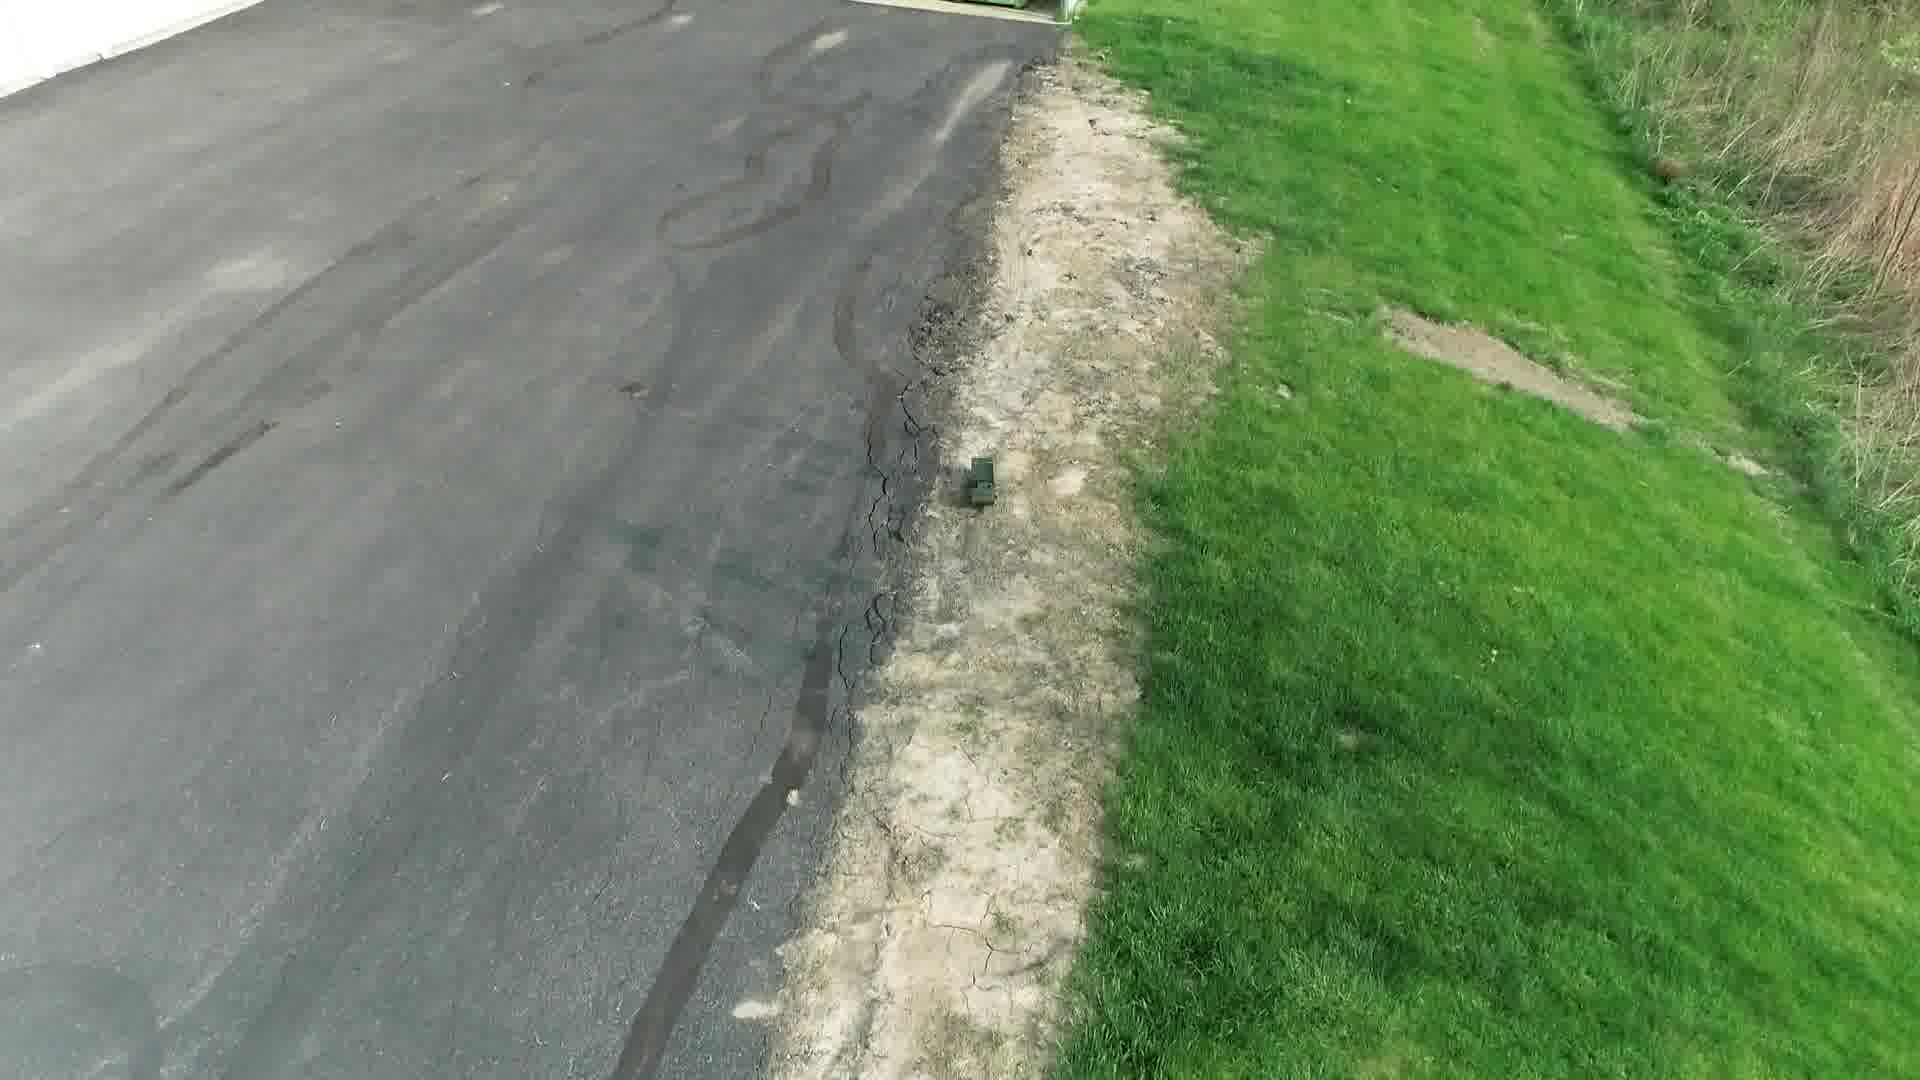transporter9: (965, 454, 1001, 508)
